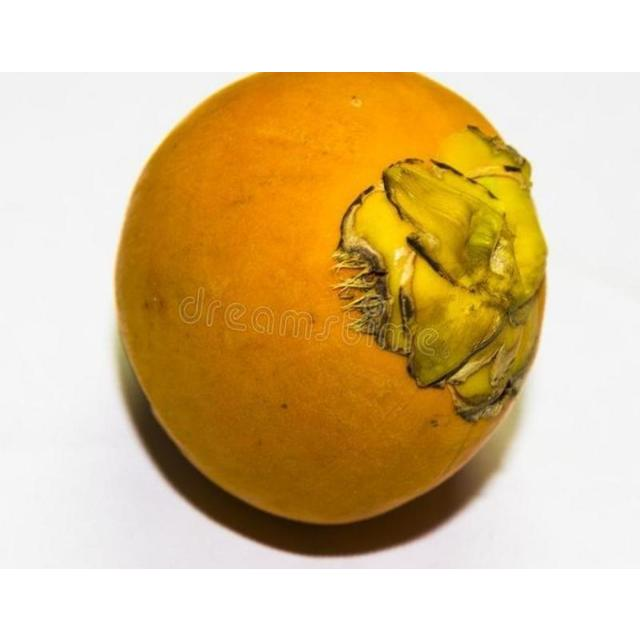good: (112, 71, 549, 529)
